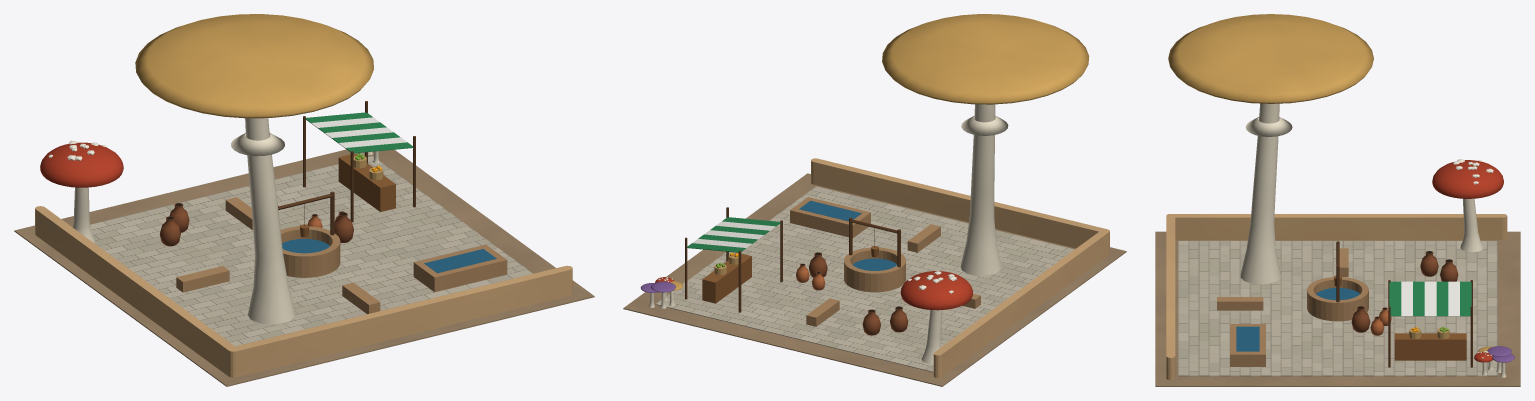
Rendered from hl_studna.glb.
3 views of the same model, side by side, from view 1: azimuth 30°, elevation 25°; view 2: azimuth 150°, elevation 25°; view 3: azimuth 270°, elevation 25° (orthographic). The views are drawn at different scales.
Parts seen in each view (by area): view 1: dum; view 2: dum; view 3: dum.
Part boxes in pixels (left/top/right/bottom): dum: left=14, top=14, right=594, bottom=386; dum: left=623, top=14, right=1126, bottom=386; dum: left=1155, top=14, right=1520, bottom=386.
Size of the model in its own units: 14.48 by 9.69 by 14.16.
1 material, 1 textured.
